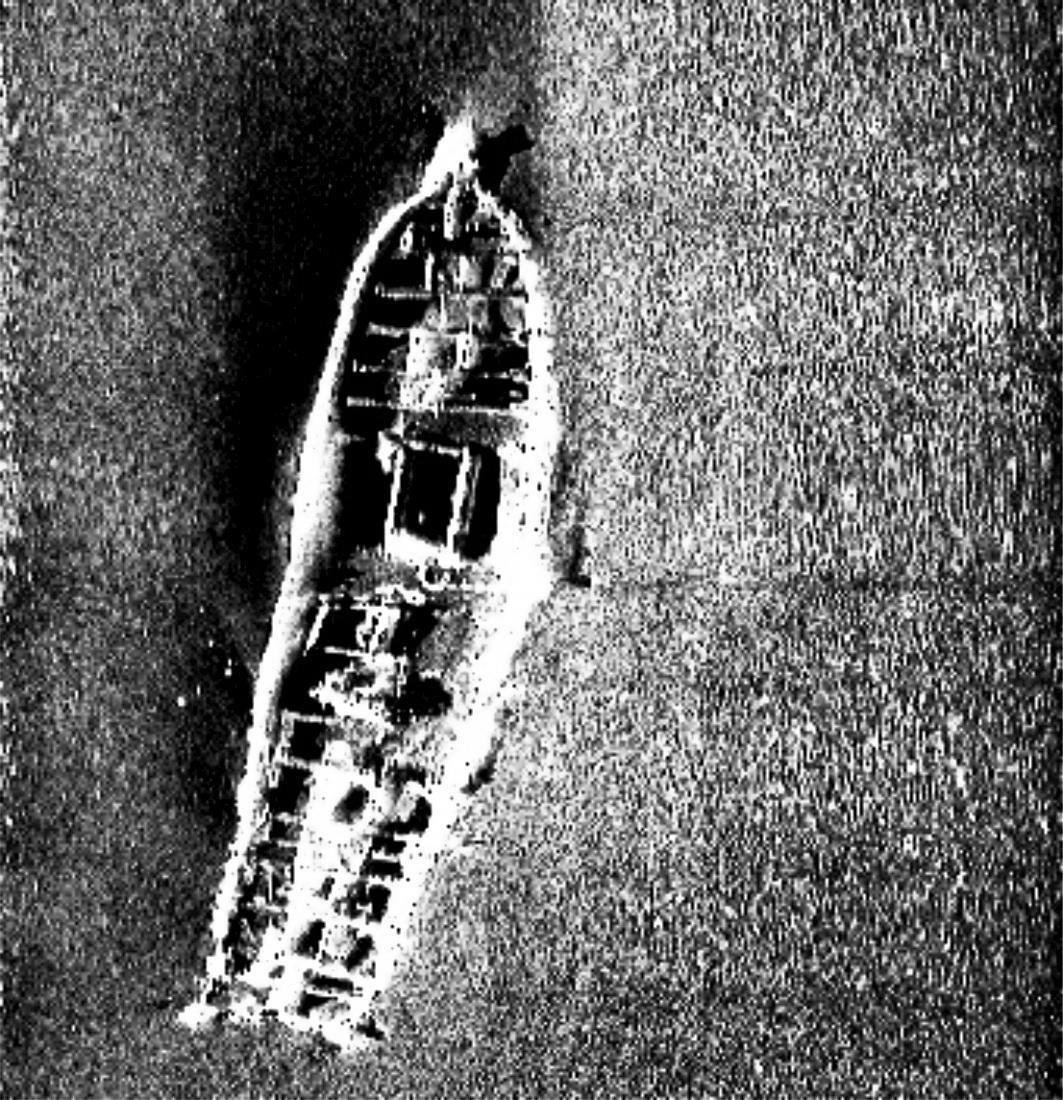ship: (174, 111, 572, 1062)
